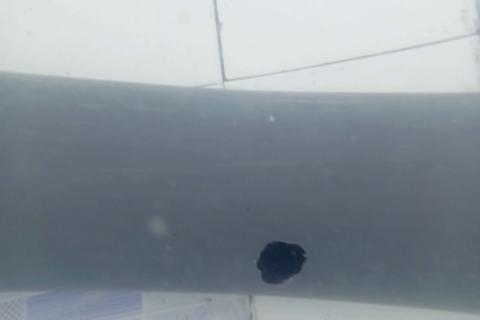kebocoran: (254, 237, 308, 286)
